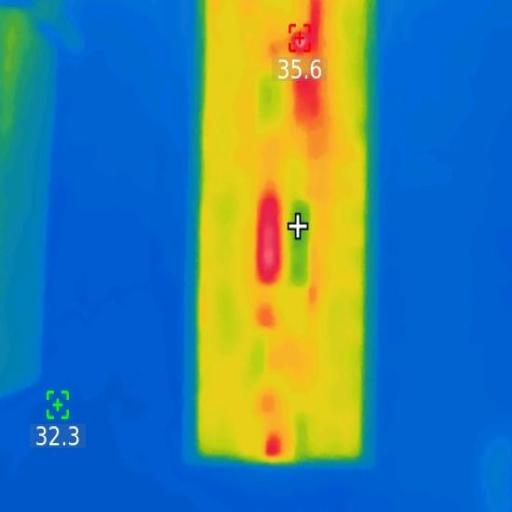hotspot: (258, 186, 280, 282), (286, 16, 318, 59), (262, 429, 284, 460)
